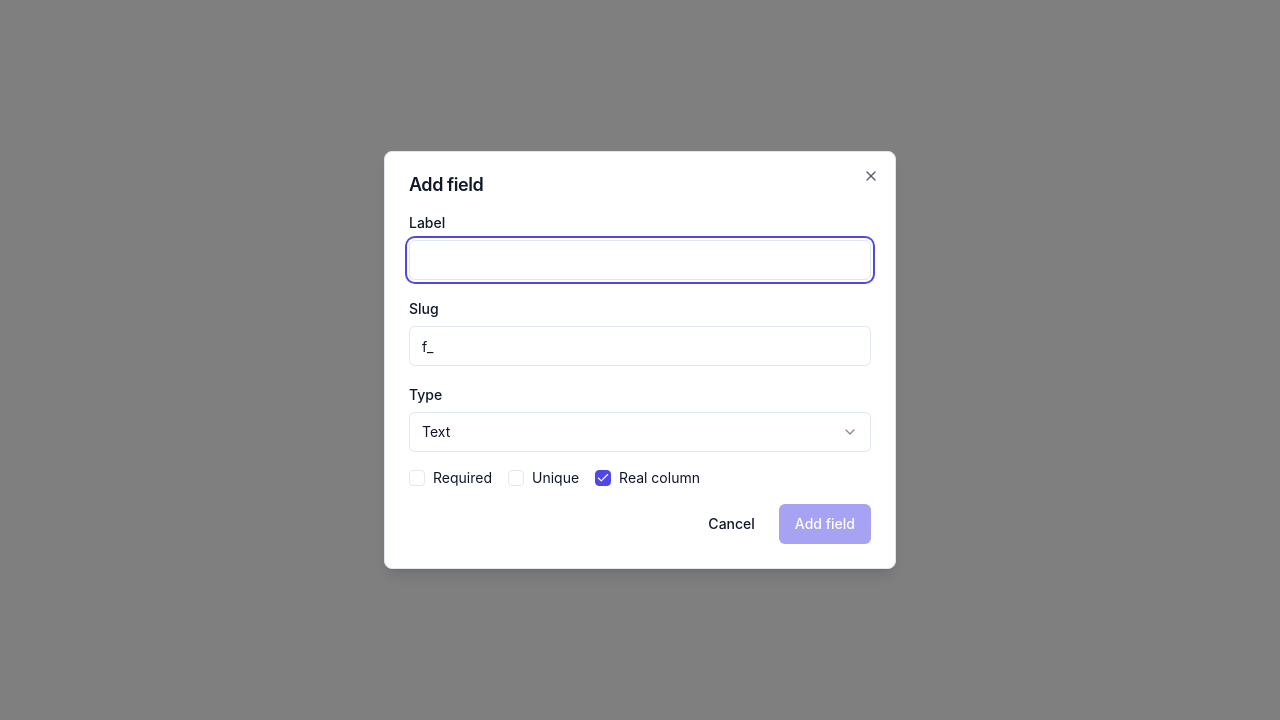
Test case: FieldDialog (create — config branches & toggles) › flags an invalid slug and disables Add field
Type "Name" into the field labelled "Label". click: [640, 260]
box: [409,240,871,280]
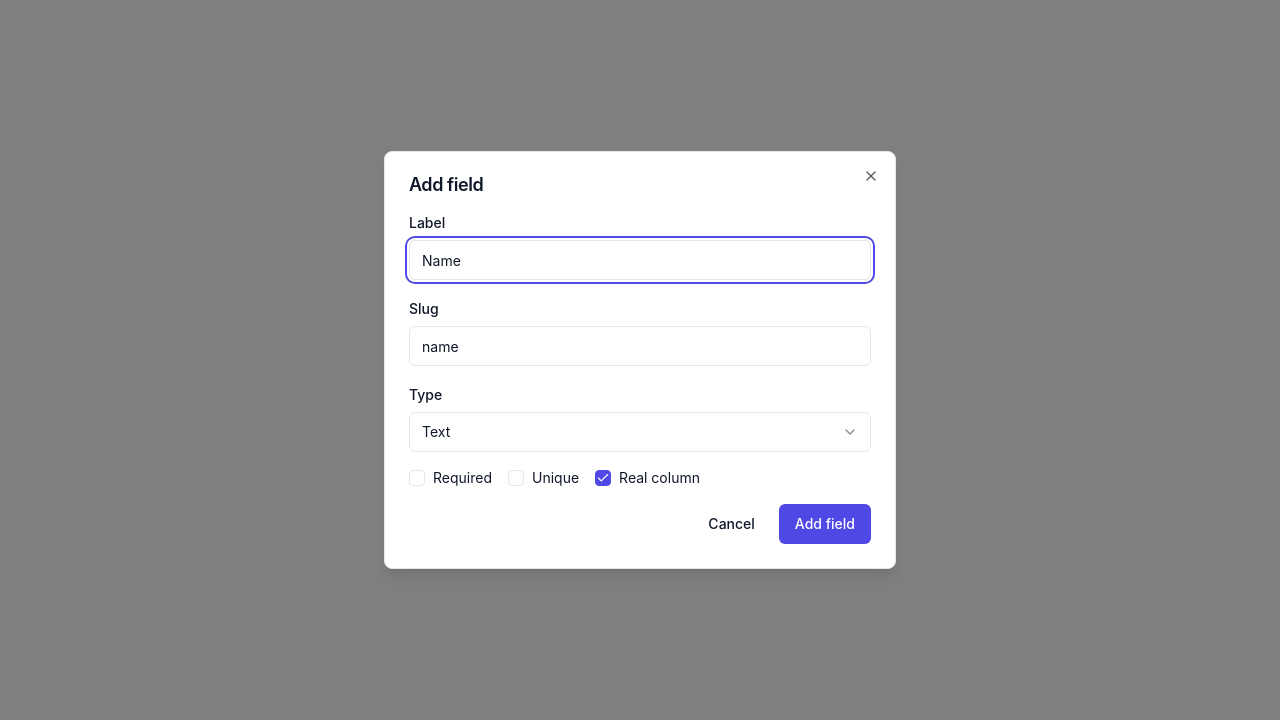
Replace the text in the field labelled "Slug" with "1bad". click: [640, 346]
box: [409,326,871,366]
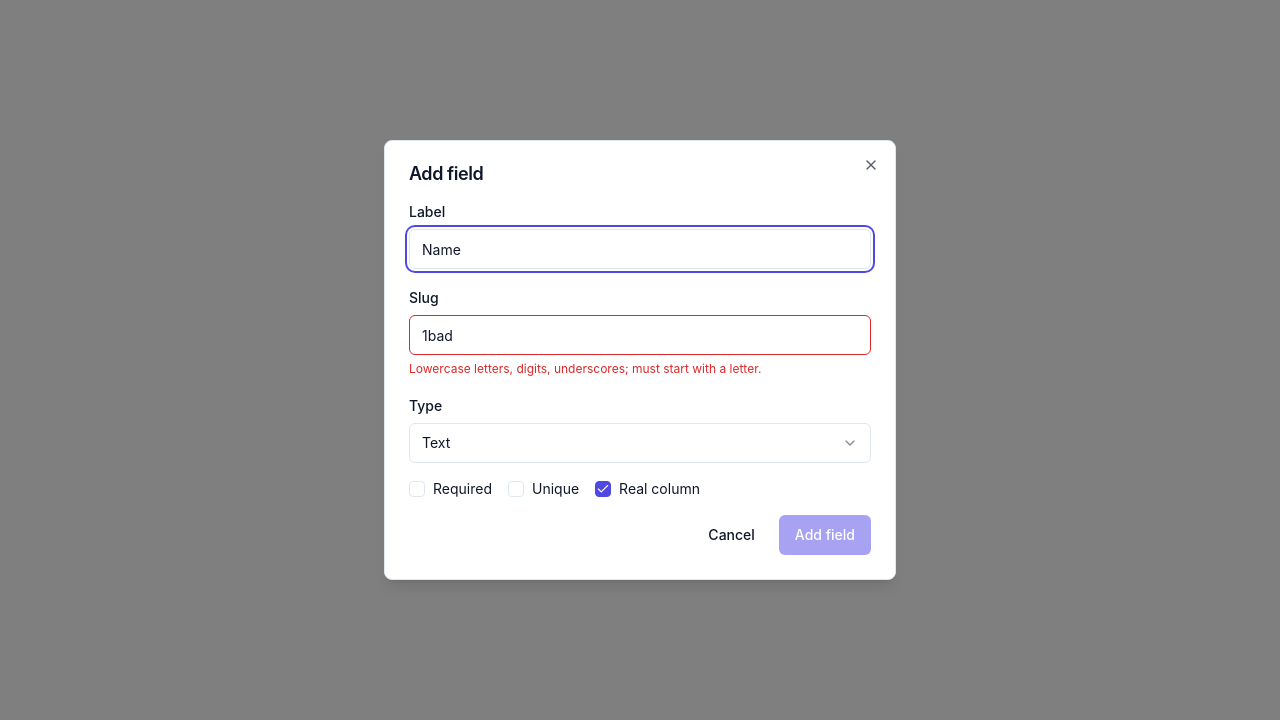
Check: the message "Lowercase letters, digits, underscores; must start with a letter." is shown, box [409,361,761,376]
Check: the button "Add field" is disabled, box [779,515,871,555]
